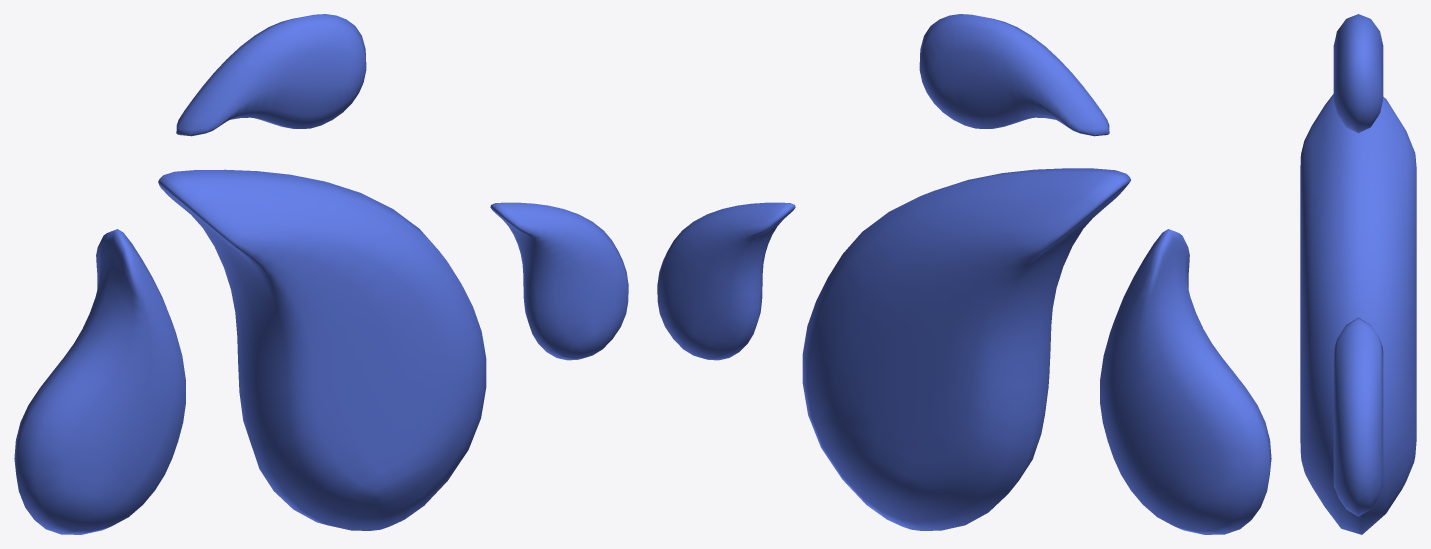
Rendered from powerup2.fbx.
3 views of the same model, side by side, from view 1: azimuth 30°, elevation 25°; view 2: azimuth 150°, elevation 25°; view 3: azimuth 270°, elevation 25° (orthographic). The views are drawn at different scales.
Parts seen in each view (by area): view 1: powerup2; view 2: powerup2; view 3: powerup2.
Boxes of the visible parts, x1,y1,x2,y2 form: powerup2: (14, 14, 628, 534); powerup2: (657, 14, 1271, 534); powerup2: (1300, 14, 1416, 534).
Bounding box in the file's own units: 358 × 295 × 65.79.
